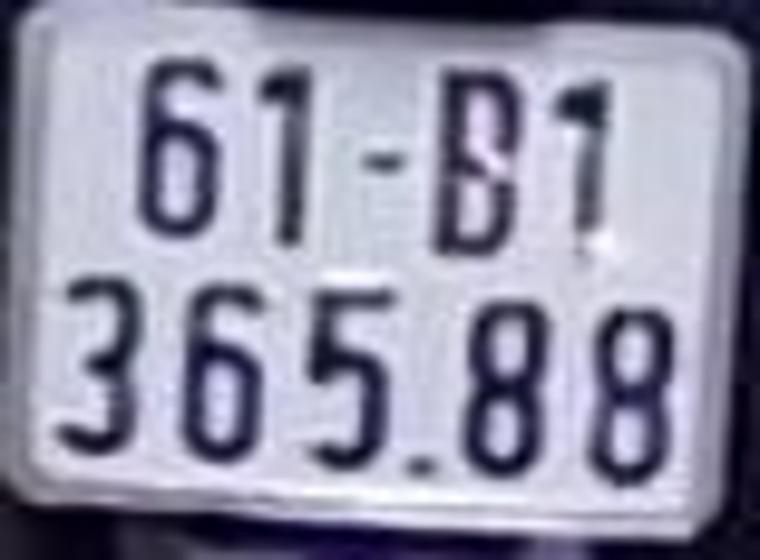-: (358, 149, 410, 180)
.: (403, 451, 445, 488)
1: (257, 65, 326, 252), (552, 86, 615, 257)
3: (56, 267, 146, 464)
5: (297, 279, 390, 470)
6: (181, 279, 268, 464), (137, 58, 221, 239)
8: (591, 308, 681, 487), (465, 300, 546, 475)
B: (436, 65, 526, 256)
